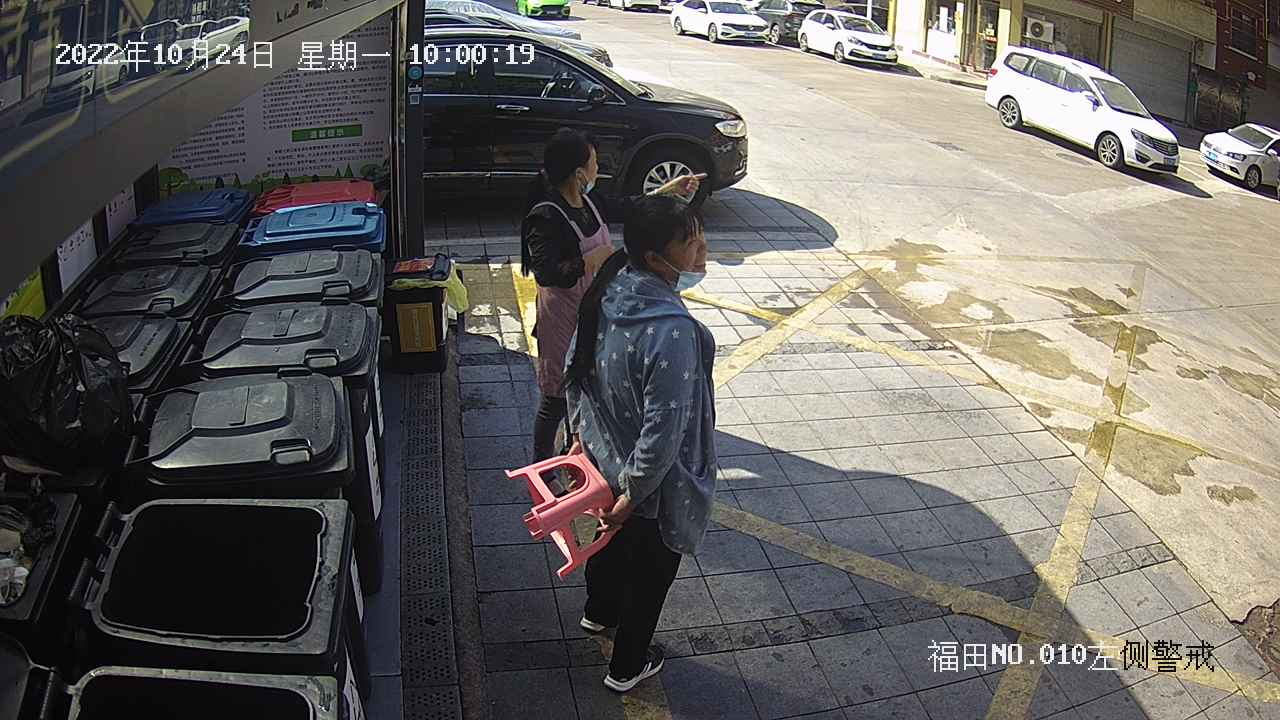person: (512, 127, 721, 696)
